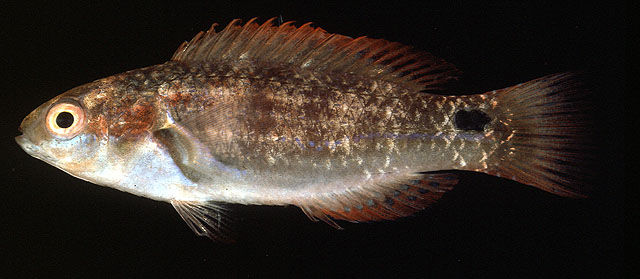fish: (15, 17, 577, 241)
